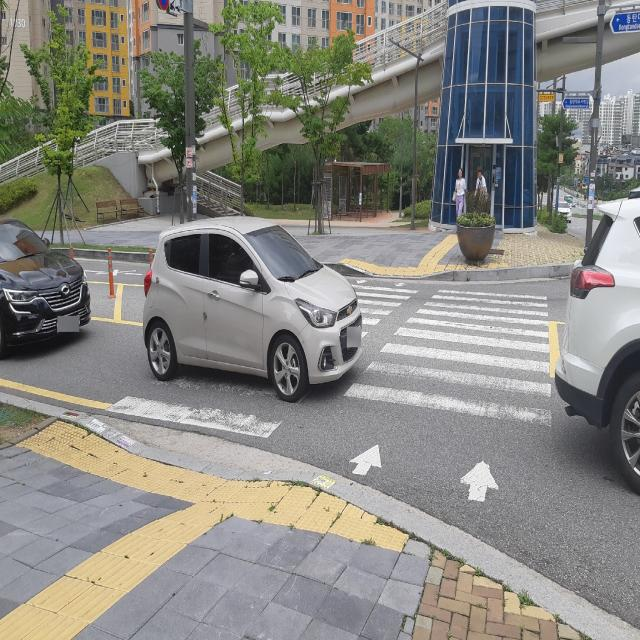횡단보도: (103, 278, 554, 504)
